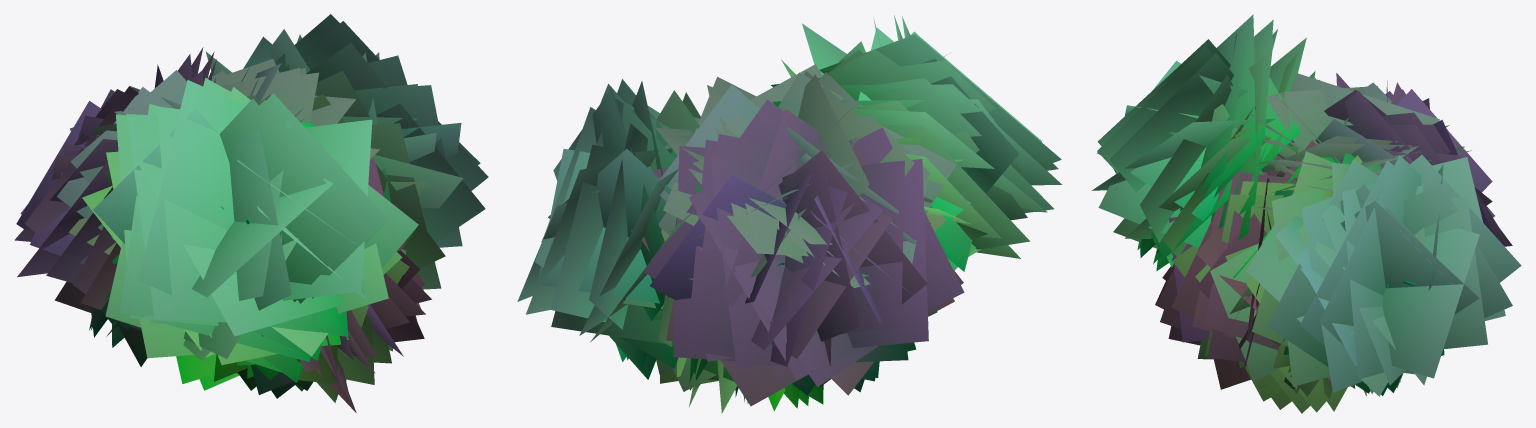
File: Arbusto2.fbx
The picture shows the model from 3 angles, left to right: view 1: azimuth 30°, elevation 25°; view 2: azimuth 150°, elevation 25°; view 3: azimuth 270°, elevation 25°; orthographic projection. The views are drawn at different scales.
Visible parts, largest first — view 1: Tree_1; view 2: Tree_1; view 3: Tree_1.
Boxes of the visible parts, x1,y1,x2,y2 form: Tree_1: (14,14,488,412); Tree_1: (517,15,1061,413); Tree_1: (1091,14,1521,413).
Size of the model in its own units: 116 by 95.26 by 114.
